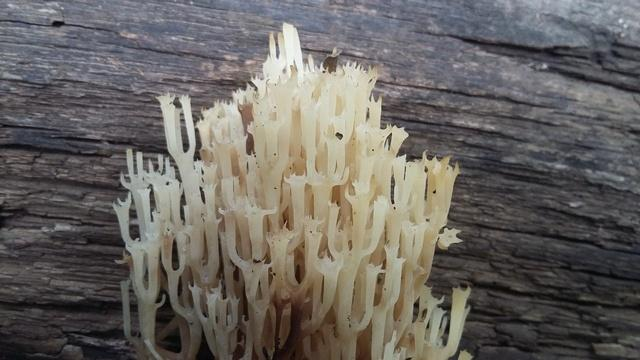Edible Mushroom: (111, 21, 473, 358)
